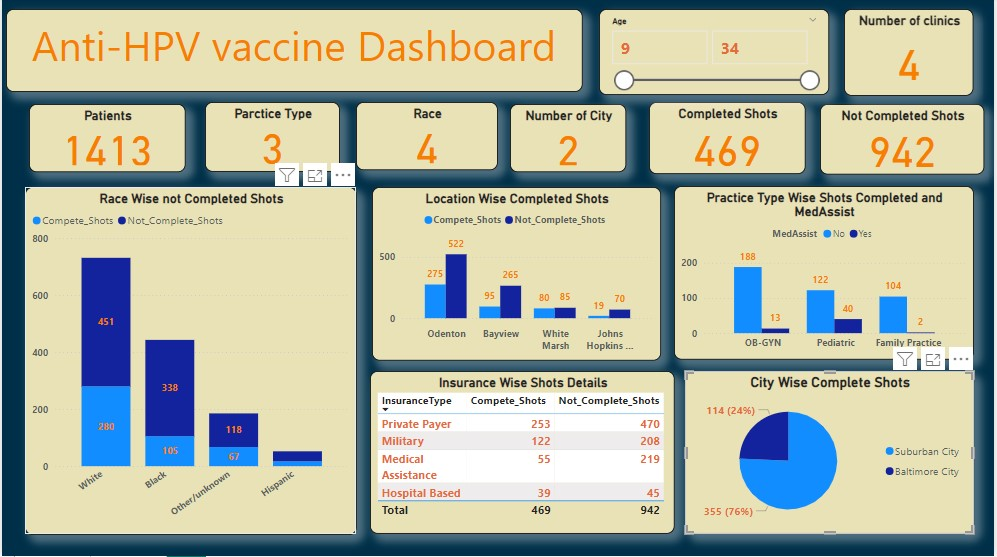

The dashboard page shown, as its layout file describes it:
{"tool":"powerbi","page":{"name":"Dashboard","canvas":[1280,720],"ordinal":0},"visuals":[{"type":"card","title":"Completed Shots","fields":{"Values":["Gardasil.Compete_Shots"]},"box":[834.9,134.6,201.8,93.2],"z":0},{"type":"card","title":"Not Completed Shots","fields":{"Values":["Gardasil.Not_Complete_Shots"]},"box":[1055.7,136.3,212.2,91.4],"z":1000},{"type":"textbox","box":[5.2,13.8,743.5,107],"z":2000},{"type":"card","title":"Patients","fields":{"Values":["CountNonNull(Gardasil.Patient)"]},"box":[34.5,136.3,201.8,88],"z":3000},{"type":"card","title":"Parctice Type","fields":{"Values":["Count(Gardasil.PracticeType)"]},"box":[262.2,134.6,174.2,89.7],"z":4000},{"type":"card","title":"Race","fields":{"Values":["Count(Gardasil.Race)"]},"box":[457.1,134.6,182.9,88],"z":5000},{"type":"card","title":"Number of City","fields":{"Values":["Count(Gardasil.City)"]},"box":[655.5,136.3,150.1,88],"z":6000},{"type":"clusteredColumnChart","title":"Location Wise Completed  Shots ","fields":{"Category":["Gardasil.Location"],"Y":["Gardasil.Compete_Shots","Gardasil.Not_Complete_Shots"]},"box":[477.8,243.2,372.6,224.3],"z":7000},{"type":"columnChart","title":"Race Wise  not Completed Shots","fields":{"Y":["Gardasil.Compete_Shots","Gardasil.Not_Complete_Shots"],"Category":["Gardasil.Race"]},"box":[29.3,243.2,427.8,448.5],"z":8000},{"type":"slicer","fields":{"Values":["Gardasil.Age"]},"box":[770,14.3,297.1,111.4],"z":9000},{"type":"clusteredColumnChart","title":"Practice Type Wise Shots Completed and MedAssist","fields":{"Y":["Gardasil.Compete_Shots"],"Category":["Gardasil.PracticeType"],"Series":["Gardasil.MedAssist"]},"box":[867.6,243.1,386.7,223.9],"z":10000},{"type":"tableEx","title":"Insurance Wise Shots Details","fields":{"Values":["Gardasil.InsuranceType","Gardasil.Compete_Shots","Gardasil.Not_Complete_Shots"]},"box":[474.4,481.3,393.3,210.5],"z":11000},{"type":"pieChart","title":"City Wise Complete Shots","fields":{"Category":["Gardasil.City"],"Y":["Gardasil.Compete_Shots"]},"box":[881.5,481.3,372.6,210.5],"z":12000},{"type":"card","title":"Number of clinics","fields":{"Values":["Count(Gardasil.Location)"]},"box":[1086.8,13.8,167.3,112.1],"z":13000}]}

Visuals, with their boxes in screenshot pixels (x1, y1, x2, y2), scaled from the page's 1280x720 canvas onto the 997x557 screenshot:
"Completed Shots" card: region(650, 104, 807, 176)
"Not Completed Shots" card: region(822, 105, 988, 176)
textbox: region(4, 11, 583, 93)
"Patients" card: region(27, 105, 184, 174)
"Parctice Type" card: region(204, 104, 340, 174)
"Race" card: region(356, 104, 498, 172)
"Number of City" card: region(511, 105, 627, 174)
"Location Wise Completed  Shots " clusteredColumnChart: region(372, 188, 662, 362)
"Race Wise  not Completed Shots" columnChart: region(23, 188, 356, 535)
slicer - Gardasil.Age: region(600, 11, 831, 97)
"Practice Type Wise Shots Completed and MedAssist" clusteredColumnChart: region(676, 188, 977, 361)
"Insurance Wise Shots Details" tableEx: region(370, 372, 676, 535)
"City Wise Complete Shots" pieChart: region(687, 372, 977, 535)
"Number of clinics" card: region(847, 11, 977, 97)
